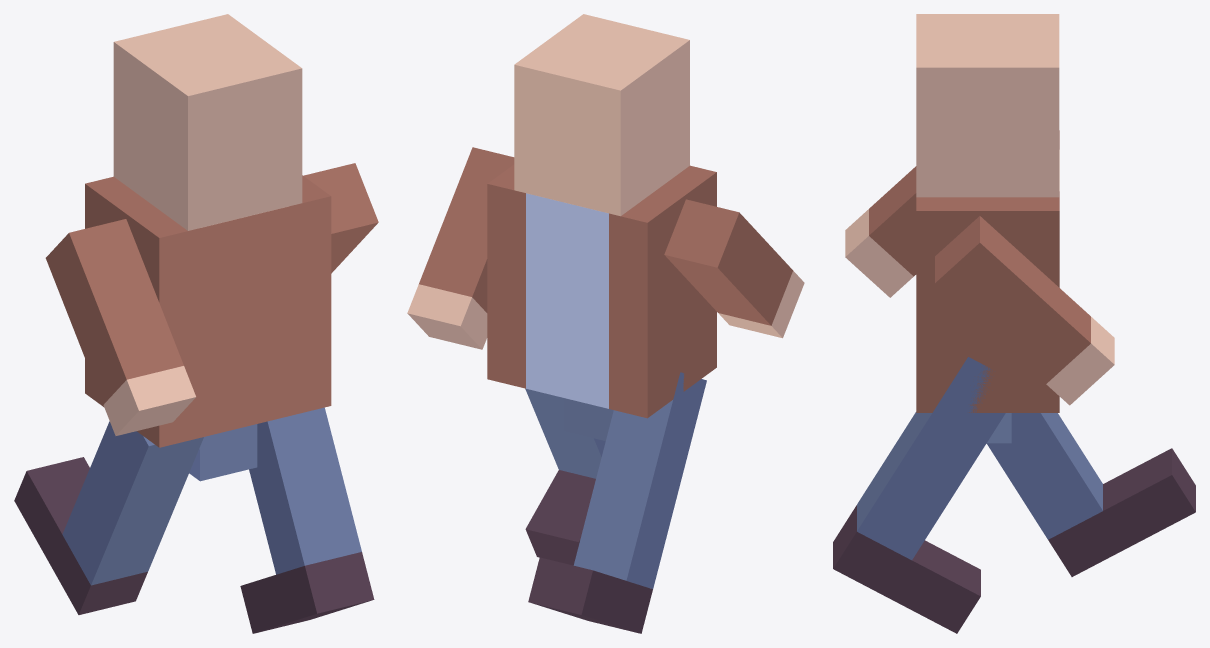
File: default-person-jump-1.glb
3 views of the same model, side by side, from view 1: azimuth 30°, elevation 25°; view 2: azimuth 150°, elevation 25°; view 3: azimuth 270°, elevation 25° (orthographic). The views are drawn at different scales.
Parts seen in each view (by area): view 1: UNIT.006, UNIT.010, UNIT.009, UNIT.008, UNIT.007; view 2: UNIT.006, UNIT.010, UNIT.008, UNIT.007, UNIT.009; view 3: UNIT.006, UNIT.009, UNIT.010, UNIT.007, UNIT.008.
Boxes of the visible parts, box(x1,y1,x2,y2) form: UNIT.006: box(85, 14, 331, 481); UNIT.010: box(14, 421, 203, 614); UNIT.009: box(240, 407, 374, 633); UNIT.008: box(45, 219, 195, 435); UNIT.007: box(303, 163, 378, 273); UNIT.006: box(487, 14, 716, 440); UNIT.010: box(528, 372, 706, 633); UNIT.008: box(664, 199, 804, 338); UNIT.007: box(407, 147, 514, 349); UNIT.009: box(525, 388, 605, 565); UNIT.006: box(916, 14, 1059, 443); UNIT.009: box(833, 357, 1005, 633); UNIT.010: box(986, 413, 1195, 576); UNIT.007: box(935, 216, 1114, 405); UNIT.008: box(845, 166, 916, 297).
Size of the model in its own units: 0.7001 by 1.34 by 0.7982.
1 material, 1 textured.
